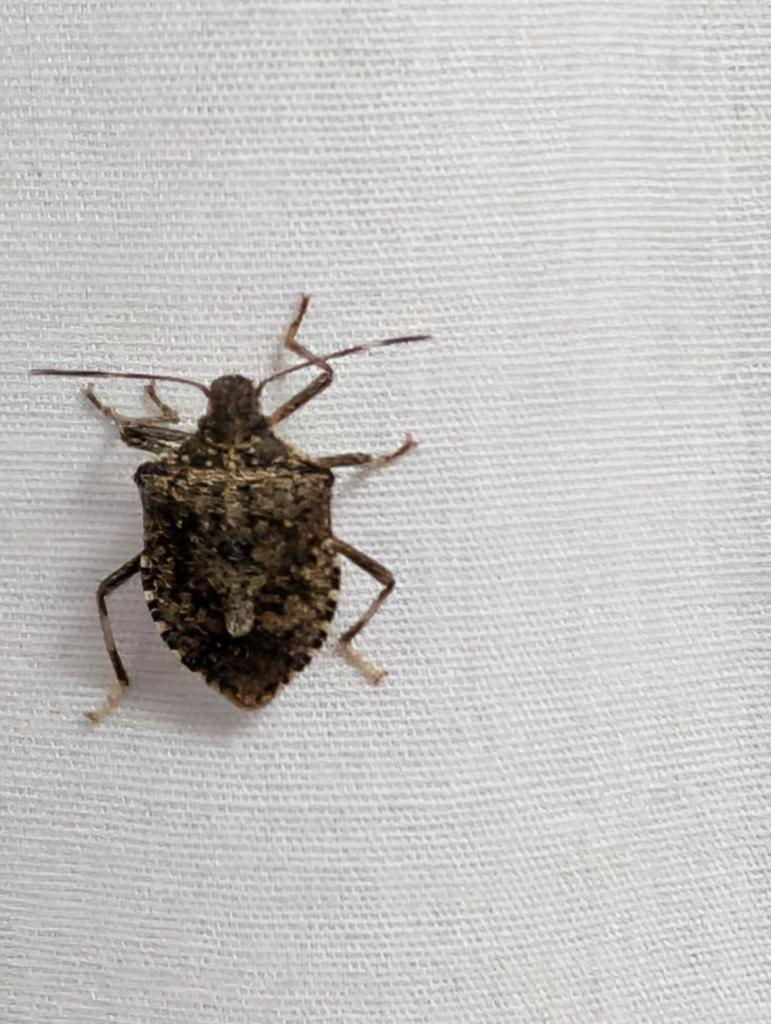stink_bugs: (0, 258, 478, 799)
